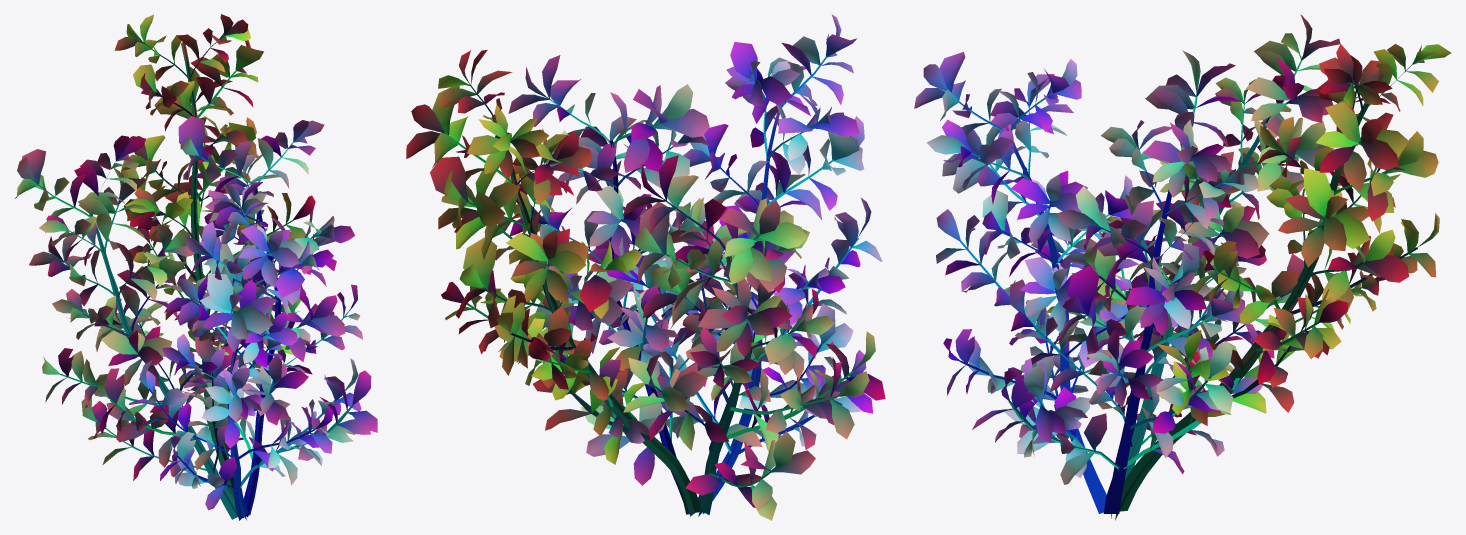
File: European_Spindle_wk1ncbxja_Mid_wk1ncbxja_VarI_LOD1.fbx
The picture shows the model from 3 angles, left to right: view 1: azimuth 30°, elevation 25°; view 2: azimuth 150°, elevation 25°; view 3: azimuth 270°, elevation 25°; orthographic projection. The views are drawn at different scales.
Visible parts, largest first — view 1: _xpdk_VarI_LOD2; view 2: _xpdk_VarI_LOD2; view 3: _xpdk_VarI_LOD2.
Boxes of the visible parts, x1,y1,x2,y2 form: _xpdk_VarI_LOD2: [14, 14, 377, 520]; _xpdk_VarI_LOD2: [406, 14, 885, 520]; _xpdk_VarI_LOD2: [914, 14, 1451, 520].
Bounding box in the file's own units: 80.27 × 111 × 105.
